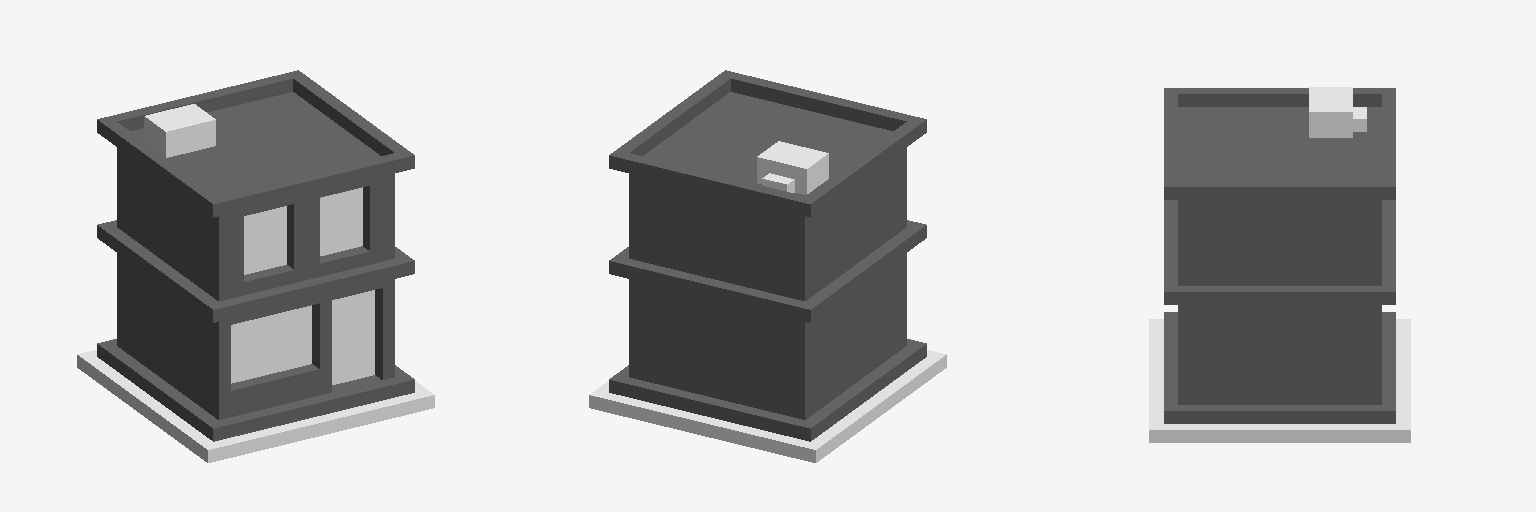
The picture shows the model from 3 angles: view 1: azimuth 30°, elevation 25°; view 2: azimuth 150°, elevation 25°; view 3: azimuth 270°, elevation 25°; orthographic projection.
Visible parts, largest first — view 1: 8; view 2: 8; view 3: 8.
Part boxes in pixels (left/top/right/bottom): 8: left=77, top=70, right=434, bottom=462; 8: left=589, top=70, right=946, bottom=462; 8: left=1149, top=87, right=1410, bottom=442.
Size of the model in its own units: 36 by 40 by 36.
1 materials, 1 textured.